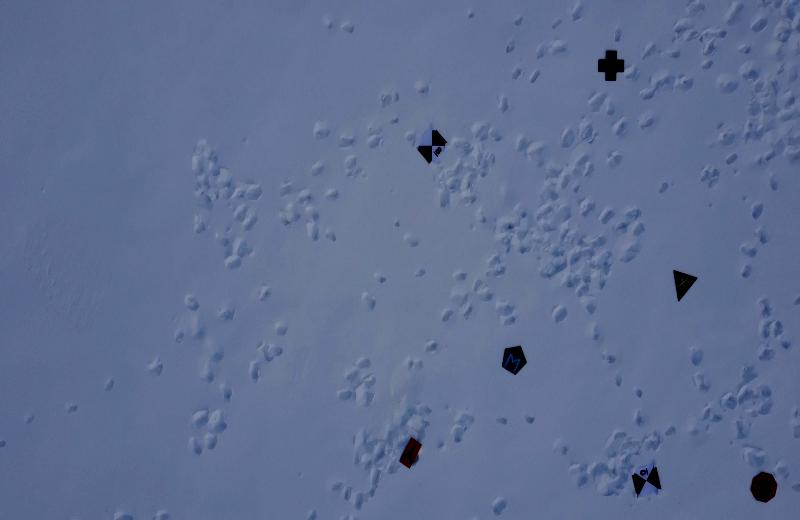Cross: (594, 49, 626, 84)
Octagon: (748, 470, 779, 505)
Pentagon: (498, 344, 531, 379)
Rectangle: (397, 435, 429, 472)
Triangle: (666, 263, 701, 305)
